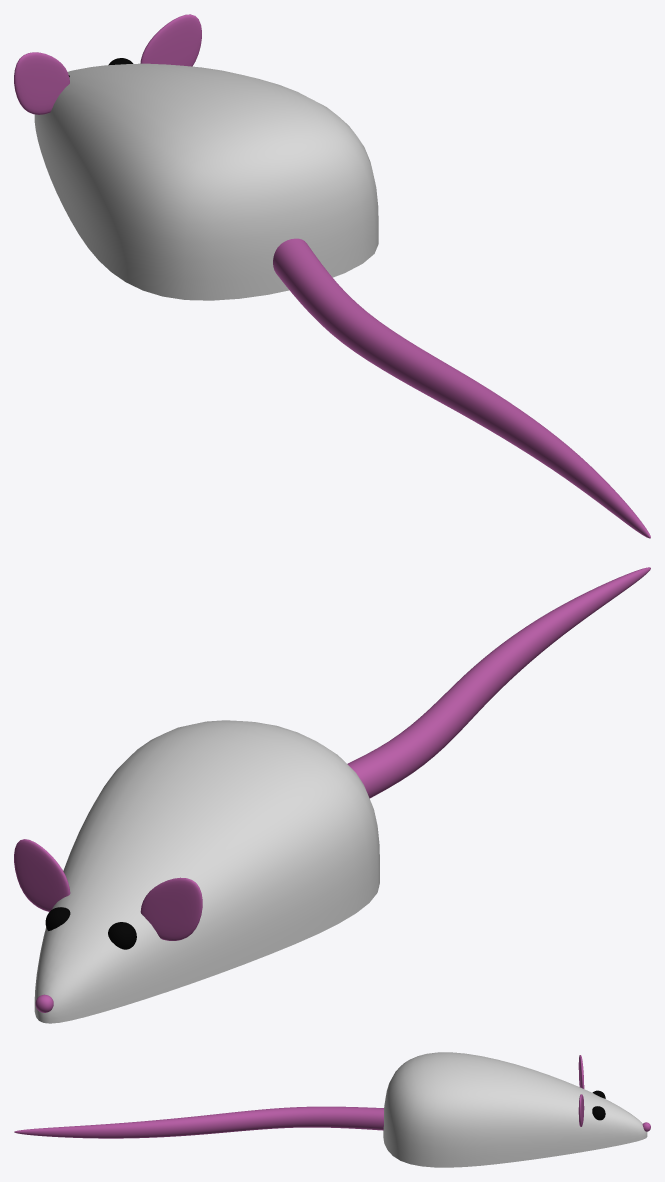
The model's file is rat.dae.
3 renders of one model, top to bottom at view 1: azimuth 30°, elevation 25°; view 2: azimuth 150°, elevation 25°; view 3: azimuth 270°, elevation 25°, orthographic. The views are drawn at different scales.
Visible parts, largest first — view 1: Rat; view 2: Rat; view 3: Rat.
Part boxes in pixels (bbox=[...]): Rat: bbox=[14, 14, 650, 538]; Rat: bbox=[14, 567, 650, 1023]; Rat: bbox=[14, 1052, 650, 1167].
Size of the model in its own units: 1.6 by 6.95 by 0.8787.
